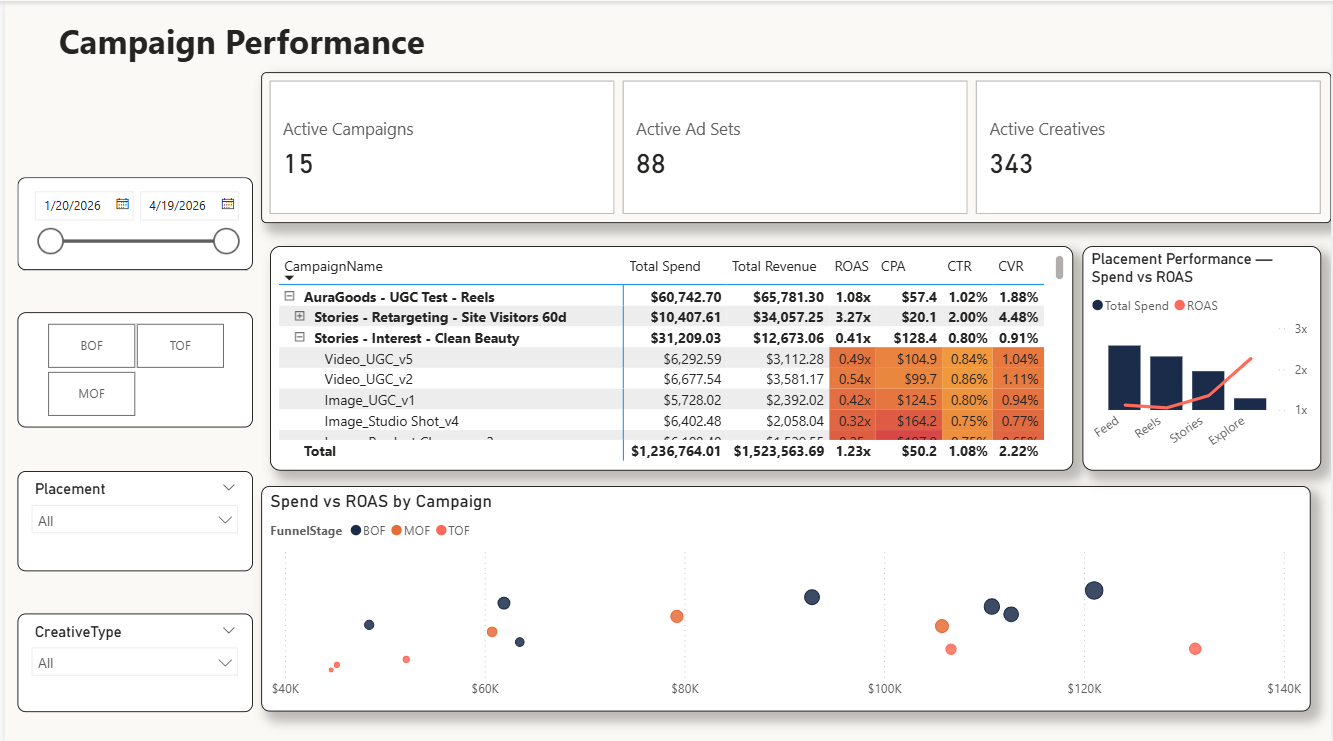

This screenshot's page, from the dashboard's own definition file:
{"tool":"powerbi","page":{"name":"Campaign Deep Dive","canvas":[1280,720],"ordinal":1},"visuals":[{"type":"slicer","fields":{"Values":["Dim_Date.Date"]},"box":[12.1,170.1,226.8,89.3],"z":0},{"type":"slicer","fields":{"Values":["Dim_Campaign.FunnelStage"]},"box":[12.1,300.8,226.8,111],"z":1000},{"type":"slicer","fields":{"Values":["Dim_AdSet.Placement"]},"box":[12.1,453.2,226.8,96.5],"z":2000},{"type":"slicer","fields":{"Values":["Dim_Creative.CreativeType"]},"box":[12.1,591.2,226.8,95.3],"z":3000},{"type":"textbox","box":[47.1,12.1,653.9,90.5],"z":4000},{"type":"cardVisual","fields":{"Data":["Calculations.Active Campaigns","Calculations.Active Ad Sets","Calculations.Active Creatives"]},"box":[247.3,68.8,1032.7,146],"z":5000},{"type":"pivotTable","title":"Spend vs Revenue trend ","fields":{"Rows":["Dim_Campaign.CampaignName","Dim_AdSet.AdSetName","Dim_Creative.CreativeName"],"Values":["Calculations.Total Spend","Calculations.Total Revenue","Calculations.ROAS","Calculations.CPA","Calculations.CTR","Calculations.CVR"]},"box":[256.1,236.3,775.6,216.5],"z":6000},{"type":"scatterChart","title":"Spend vs ROAS by Campaign","fields":{"X":["Calculations.Total Spend"],"Y":["Calculations.ROAS"],"Size":["Calculations.Total Purchases"],"Series":["Dim_Campaign.FunnelStage"],"Category":["Dim_Campaign.CampaignName"]},"box":[247.4,467.6,1013.1,217.7],"z":7000},{"type":"lineStackedColumnComboChart","title":"Placement Performance — Spend vs ROAS","fields":{"Category":["Dim_AdSet.Placement"],"Y":["Calculations.Total Spend"],"Y2":["Calculations.ROAS"]},"box":[1040.3,236.3,230.1,216.5],"z":8000}]}

Visuals, with their boxes in screenshot pixels (x1, y1, x2, y2), scaled from the page's 1280x720 canvas onto the 1333x741 screenshot:
slicer - Dim_Date.Date: [13, 175, 249, 267]
slicer - Dim_Campaign.FunnelStage: [13, 310, 249, 424]
slicer - Dim_AdSet.Placement: [13, 466, 249, 566]
slicer - Dim_Creative.CreativeType: [13, 608, 249, 707]
textbox: [49, 12, 730, 106]
cardVisual - Calculations.Active Campaigns x Calculations.Active Ad Sets: [258, 71, 1332, 221]
"Spend vs Revenue trend " pivotTable: [267, 243, 1074, 466]
"Spend vs ROAS by Campaign" scatterChart: [258, 481, 1313, 705]
"Placement Performance — Spend vs ROAS" lineStackedColumnComboChart: [1083, 243, 1323, 466]
